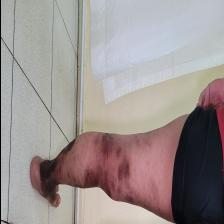DA: (98, 133, 114, 173)
